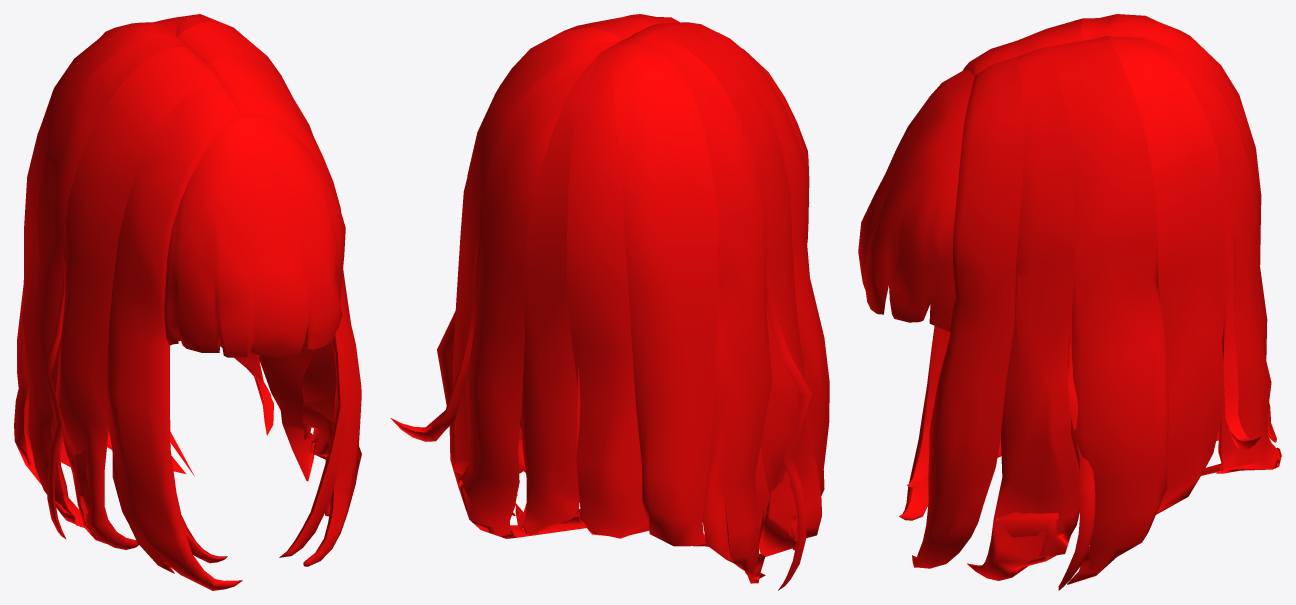
The model's file is culturalibre_hair_18_M.glb.
The picture shows the model from 3 angles, left to right: view 1: azimuth 30°, elevation 25°; view 2: azimuth 150°, elevation 25°; view 3: azimuth 270°, elevation 25°; orthographic projection. The views are drawn at different scales.
Bounding box in the file's own units: 0.2563 × 0.3937 × 0.2932.
1 material, 1 textured.
